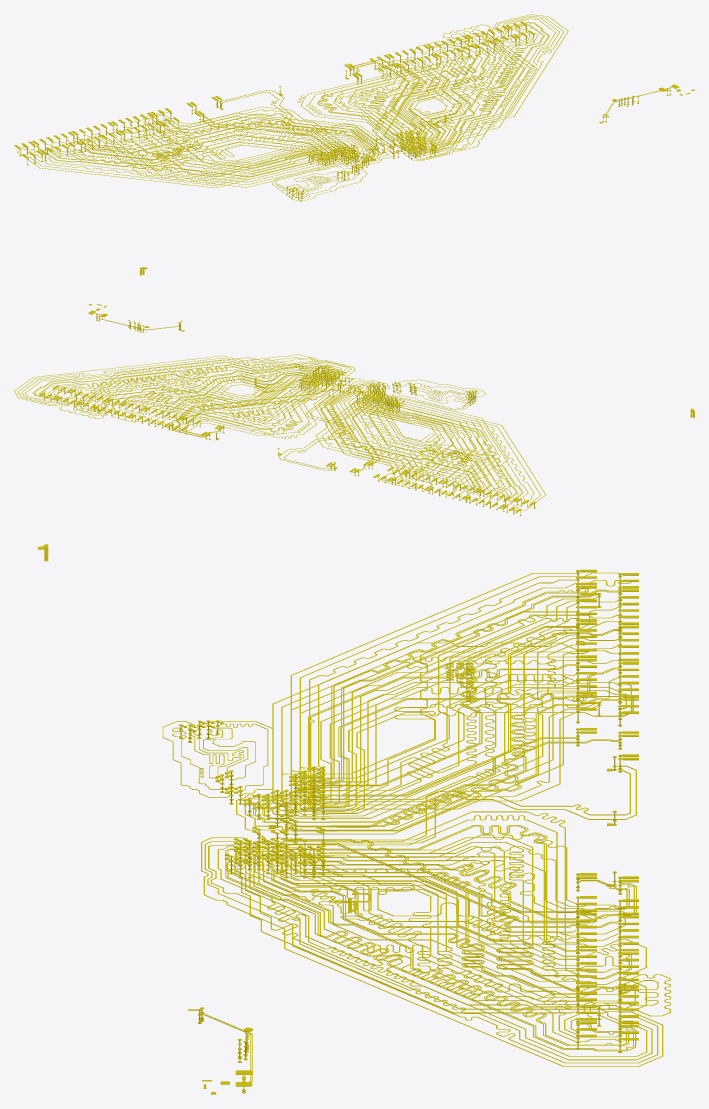
The model's file is rdimm-ddr5-tester-hs.glb.
3 views of the same model, one above another, from view 1: azimuth 30°, elevation 25°; view 2: azimuth 150°, elevation 25°; view 3: azimuth 270°, elevation 25° (orthographic). The views are drawn at different scales.
Parts seen in each view (by area): view 1: =>[0:1:1:2], =>[0:1:1:3], =>[0:1:1:4]; view 2: =>[0:1:1:2], =>[0:1:1:3], =>[0:1:1:4]; view 3: =>[0:1:1:2], =>[0:1:1:3], =>[0:1:1:4].
Part boxes in pixels (<box>): =>[0:1:1:2]: <box>16,14,672,275</box>; =>[0:1:1:3]: <box>14,21,694,269</box>; =>[0:1:1:4]: <box>20,26,670,268</box>; =>[0:1:1:2]: <box>14,313,694,515</box>; =>[0:1:1:3]: <box>38,304,693,512</box>; =>[0:1:1:4]: <box>44,314,694,514</box>; =>[0:1:1:2]: <box>42,544,670,1093</box>; =>[0:1:1:3]: <box>38,546,638,1094</box>; =>[0:1:1:4]: <box>46,545,620,1092</box>.
Size of the model in its own units: 0.1418 by 0.0016 by 0.069.
